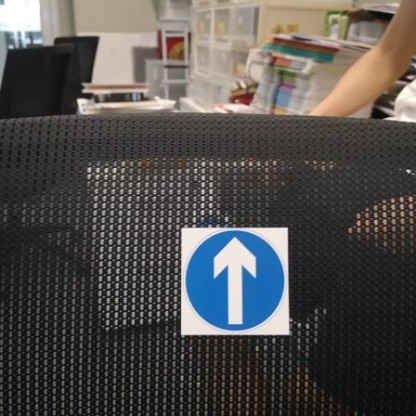forward: (179, 224, 287, 340)
